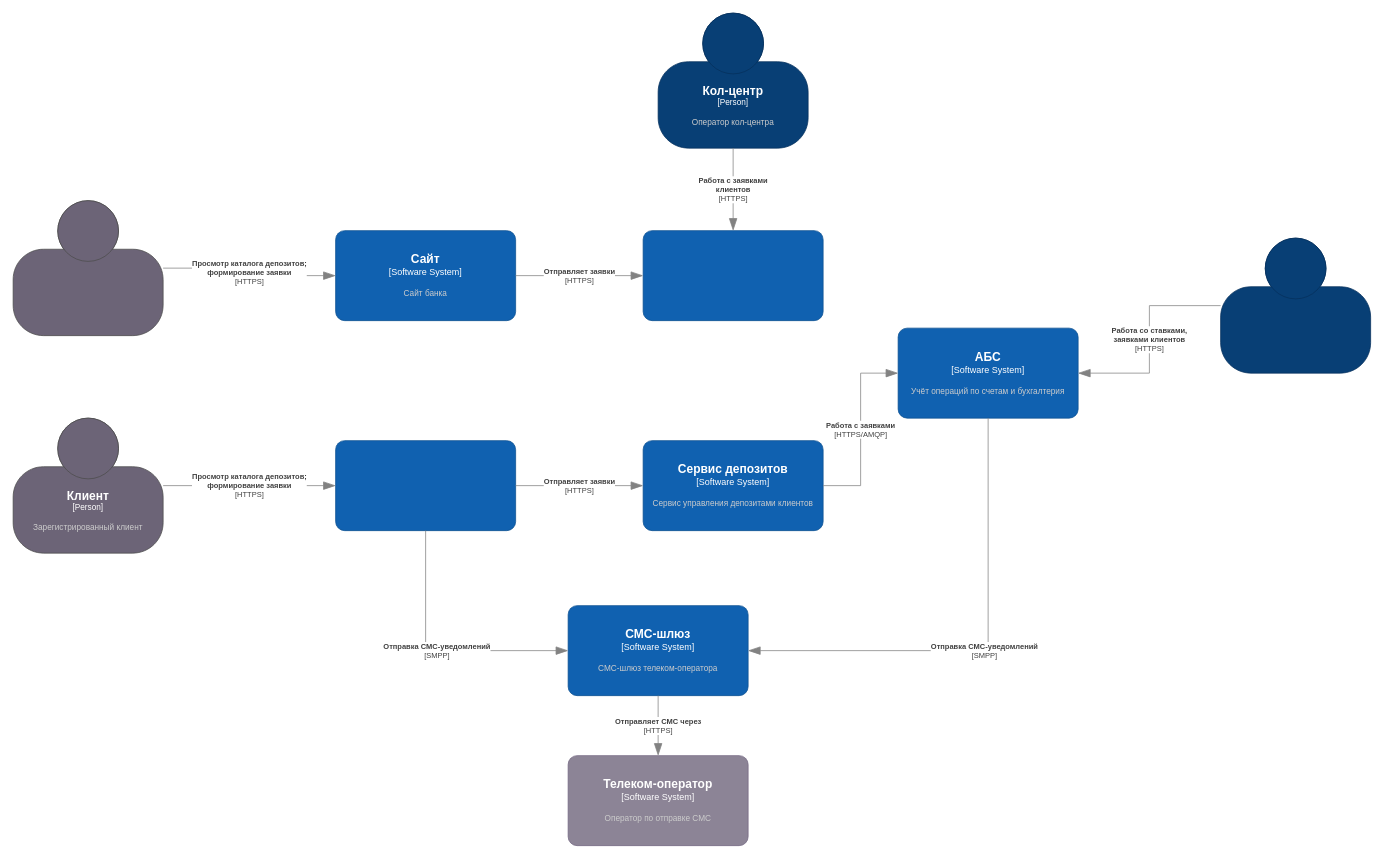
Image size: 1384x859. Some labels were removed from this diagram. The shapes that lost their labels are listed below. From the top down, each one's box as (x1, y1, x2, y2) in pixels, then its label:
(12, 200, 163, 336): Клиент [Person] Новый клиент
(642, 230, 823, 321): CRM система кол-центра [Software System] Платформа для автоматизации CRM-решений
(1220, 237, 1371, 373): Бэк-офис [Person] Менеджер бэк-офиса по депозитного отдела
(335, 440, 516, 531): Интернет-банк [Software System] Клиент-серверная система интернет-банка
